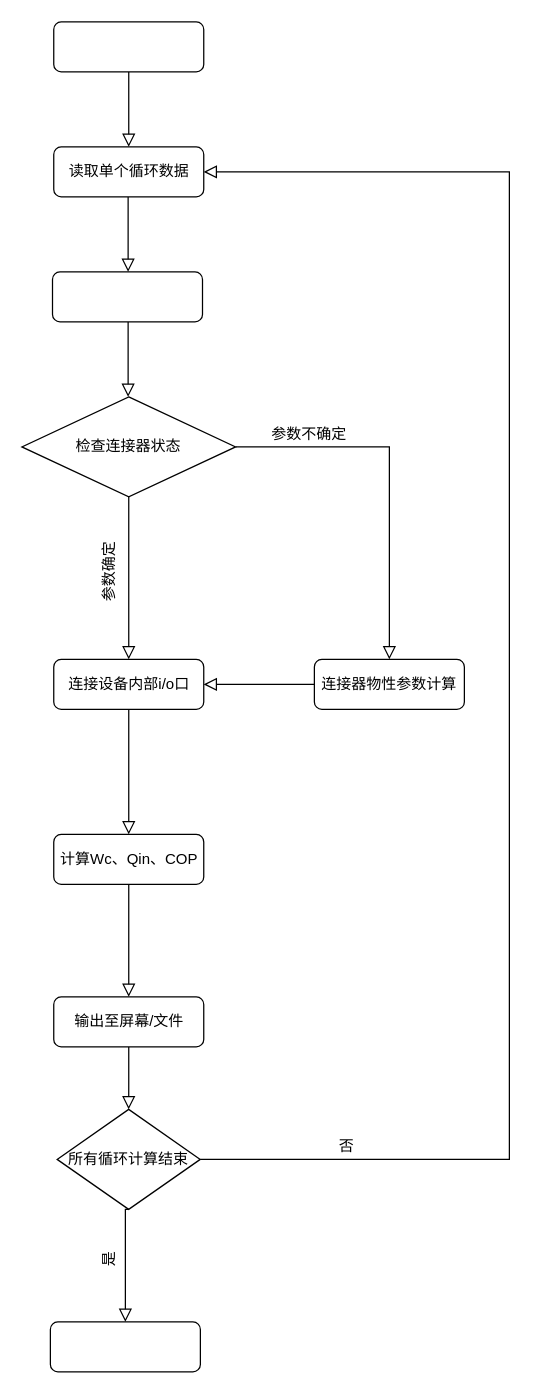
This 544x1394 diagram has some shape labels left out. The shapes that lost their labels are listed below. From the top down, each one's centre as x and y in pixels, then its label:
At (x=128, y=46): "启动程序".
At (x=126, y=296): "计算组件 端口状态".
At (x=124, y=1346): "结束".
